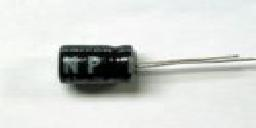Electrolytic-Capacitor: (56, 43, 256, 91)
